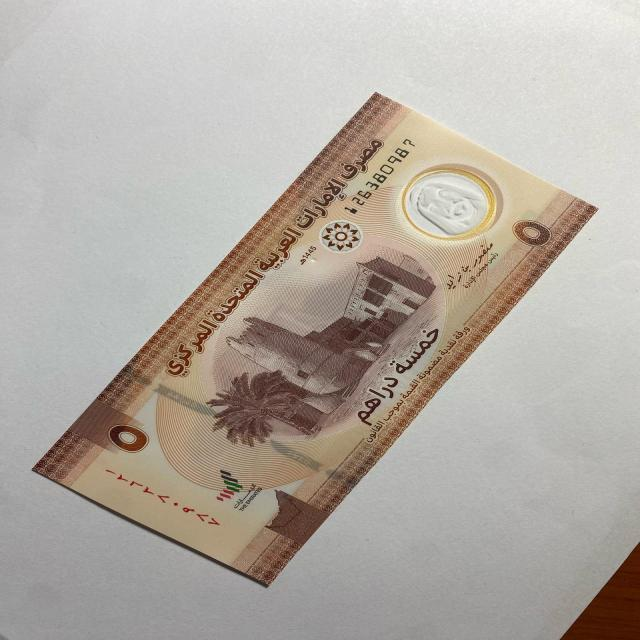5_AED: (26, 92, 604, 593)
